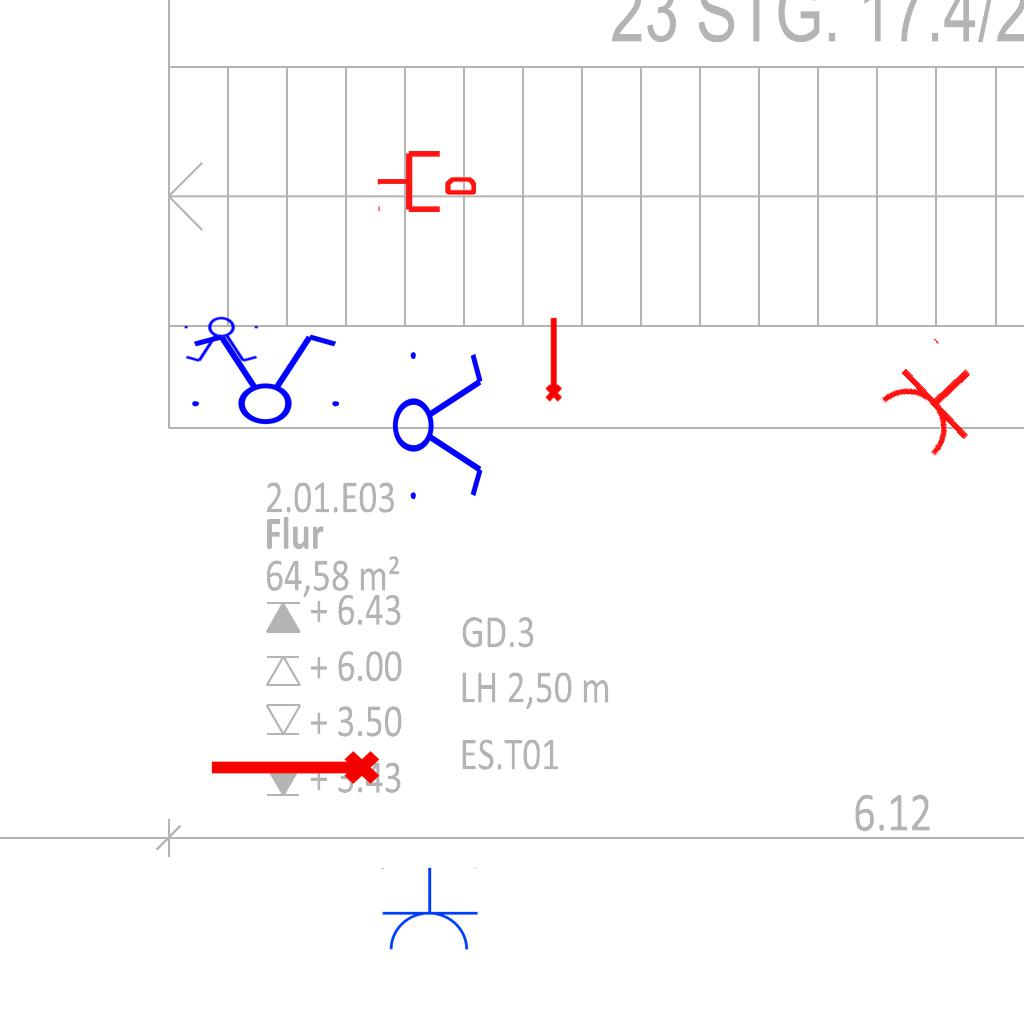ASR_Ansaugoeffnung: (206, 747, 382, 793), (541, 315, 564, 403)
Datenanschluss_einfach: (376, 147, 476, 216)
Schukosteckdose_einfach: (870, 332, 1003, 466), (379, 867, 479, 954)
Serienschalter: (391, 340, 487, 508), (180, 330, 348, 426), (180, 316, 264, 364)
